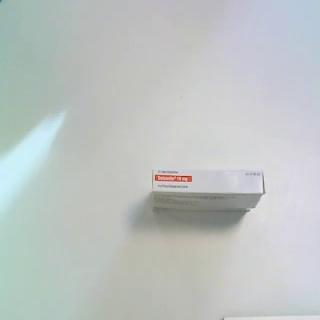dolcontin10mg: (151, 166, 267, 216)
